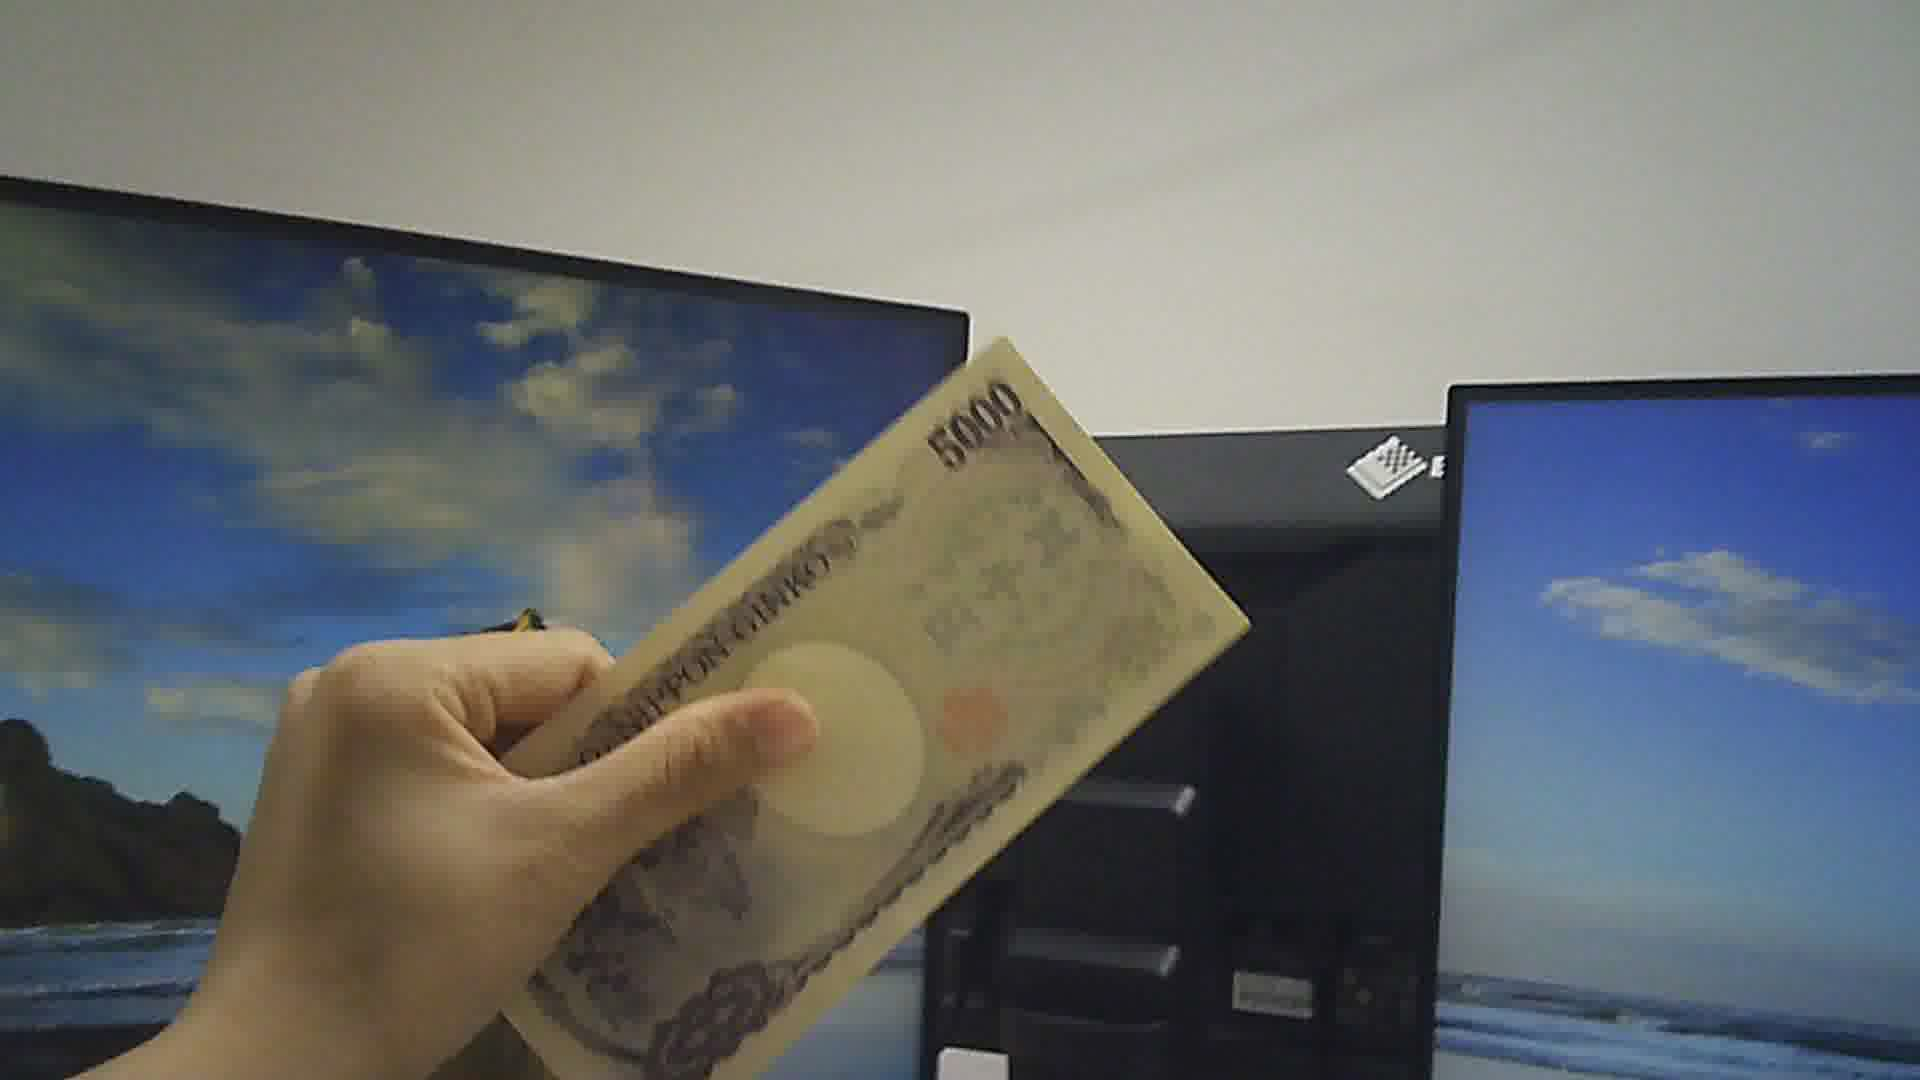5,000 Yen: (376, 330, 1291, 1079)
